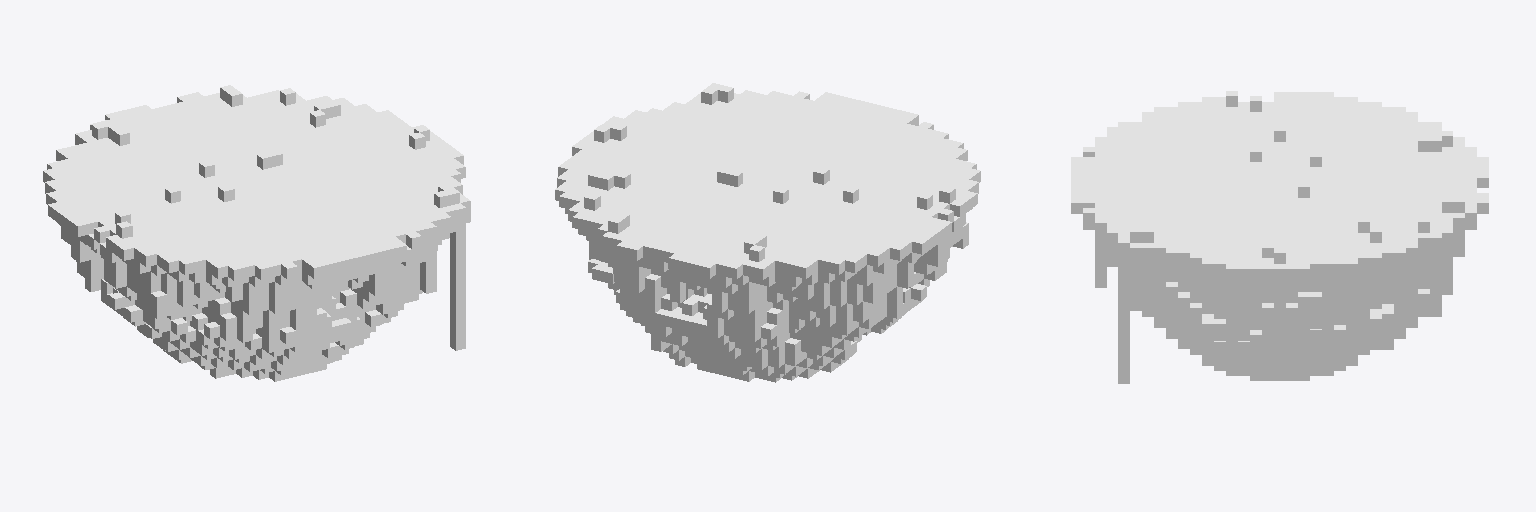
File: platform(small).obj
The picture shows the model from 3 angles: view 1: azimuth 30°, elevation 25°; view 2: azimuth 150°, elevation 25°; view 3: azimuth 270°, elevation 25°; orthographic projection.
Parts seen in each view (by area): view 1: object 1; view 2: object 1; view 3: object 1.
Boxes of the visible parts, x1=… form: object 1: x1=43, y1=85, x2=470, y2=381; object 1: x1=555, y1=83, x2=980, y2=382; object 1: x1=1071, y1=91, x2=1488, y2=383.
Bounding box in the file's own units: 3.5 × 1.6 × 3.5.